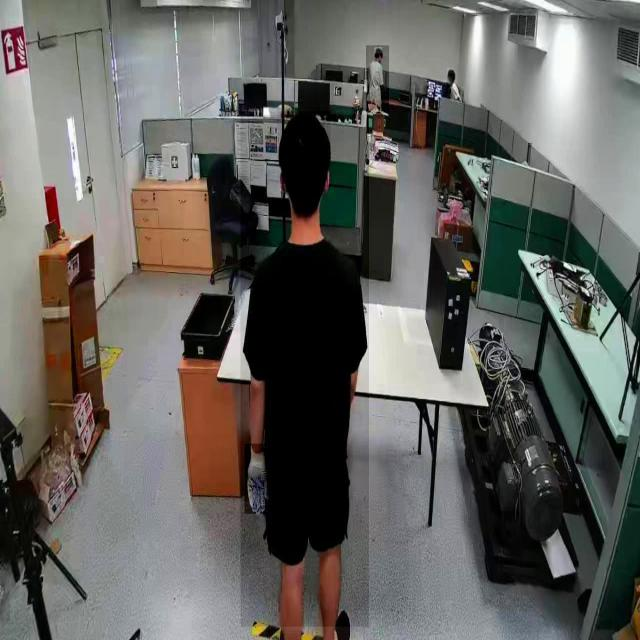hand_glove: (245, 444, 271, 514)
head_nohelmet: (277, 111, 331, 166), (374, 47, 382, 54), (447, 68, 455, 74)
person: (240, 115, 370, 628), (366, 45, 390, 114)
